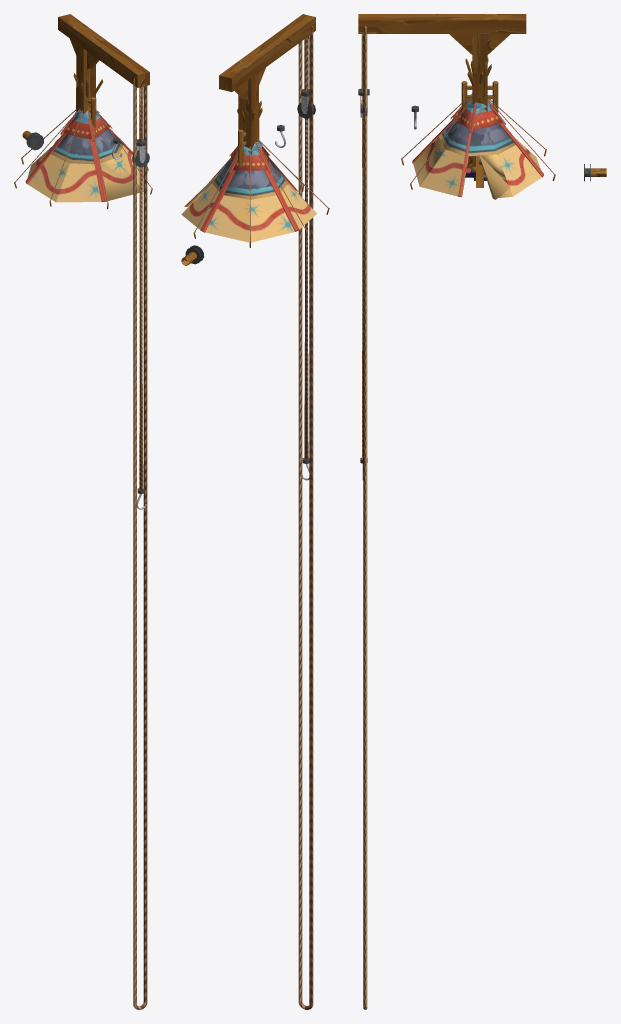
The model's file is AssetsYVYTY.fbx.
The picture shows the model from 3 angles, left to right: view 1: azimuth 30°, elevation 25°; view 2: azimuth 150°, elevation 25°; view 3: azimuth 270°, elevation 25°; orthographic projection. The views are drawn at different scales.
Visible parts, largest first — view 1: GanchoMecanismo2.001, Cabana, Mecanismo, Mecanismo.001; view 2: GanchoMecanismo2.001, Cabana, Mecanismo, Mecanismo.001; view 3: Cabana, Mecanismo, GanchoMecanismo2.001.
Boxes of the visible parts, left/top/right/bottom form: GanchoMecanismo2.001: left=133, top=78, right=147, bottom=1009; Cabana: left=14, top=73, right=152, bottom=208; Mecanismo: left=58, top=14, right=149, bottom=509; Mecanismo.001: left=132, top=89, right=149, bottom=167; GanchoMecanismo2.001: left=298, top=26, right=313, bottom=1009; Cabana: left=181, top=101, right=329, bottom=247; Mecanismo: left=219, top=14, right=315, bottom=480; Mecanismo.001: left=297, top=37, right=315, bottom=118; Cabana: left=401, top=58, right=555, bottom=199; Mecanismo: left=358, top=14, right=526, bottom=480; GanchoMecanismo2.001: left=363, top=26, right=367, bottom=1009.
Bounding box in the file's own units: 465 × 3532 × 802.
